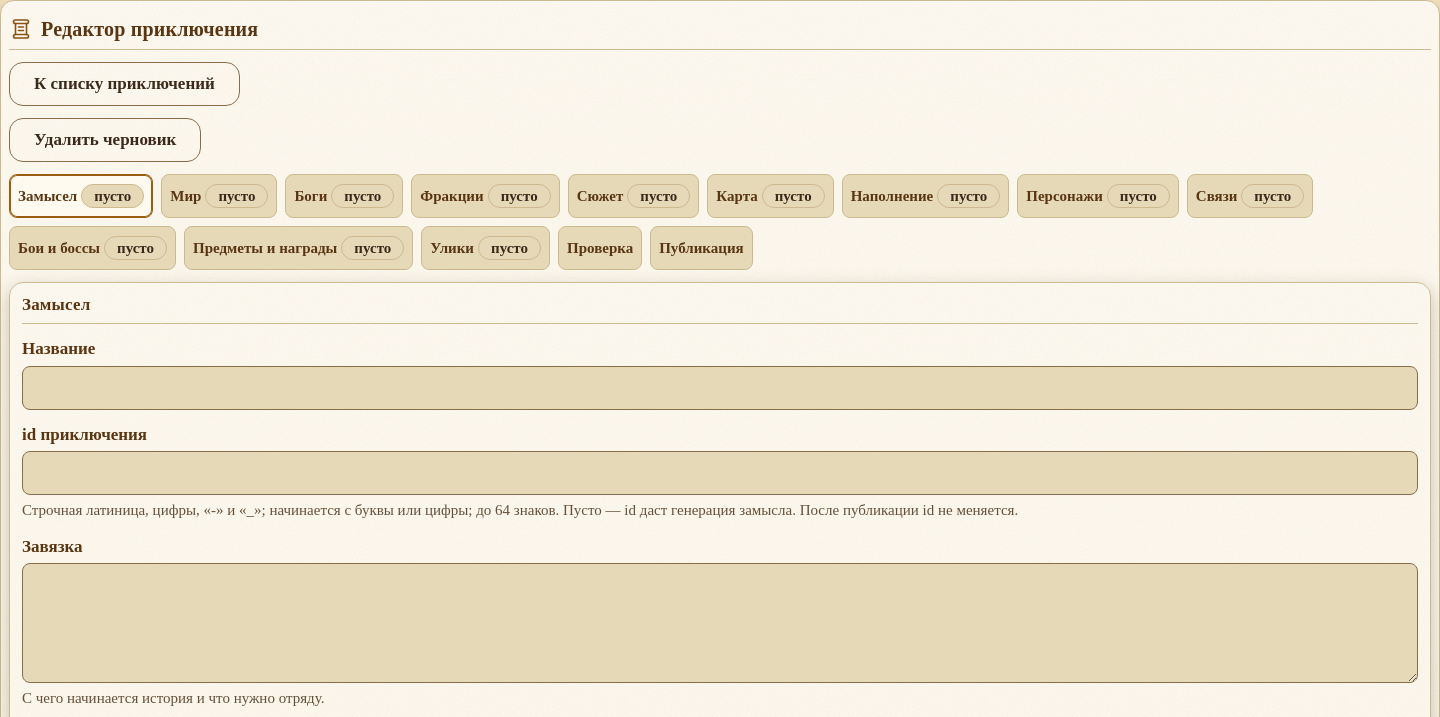
удаление черновика › «Удалить черновик» сначала спрашивает: опубликованное приключение останется; «Отмена» ничего не удаляет
Step 1. Click the button "Удалить черновик" → [105, 140], box [9,118,201,162]
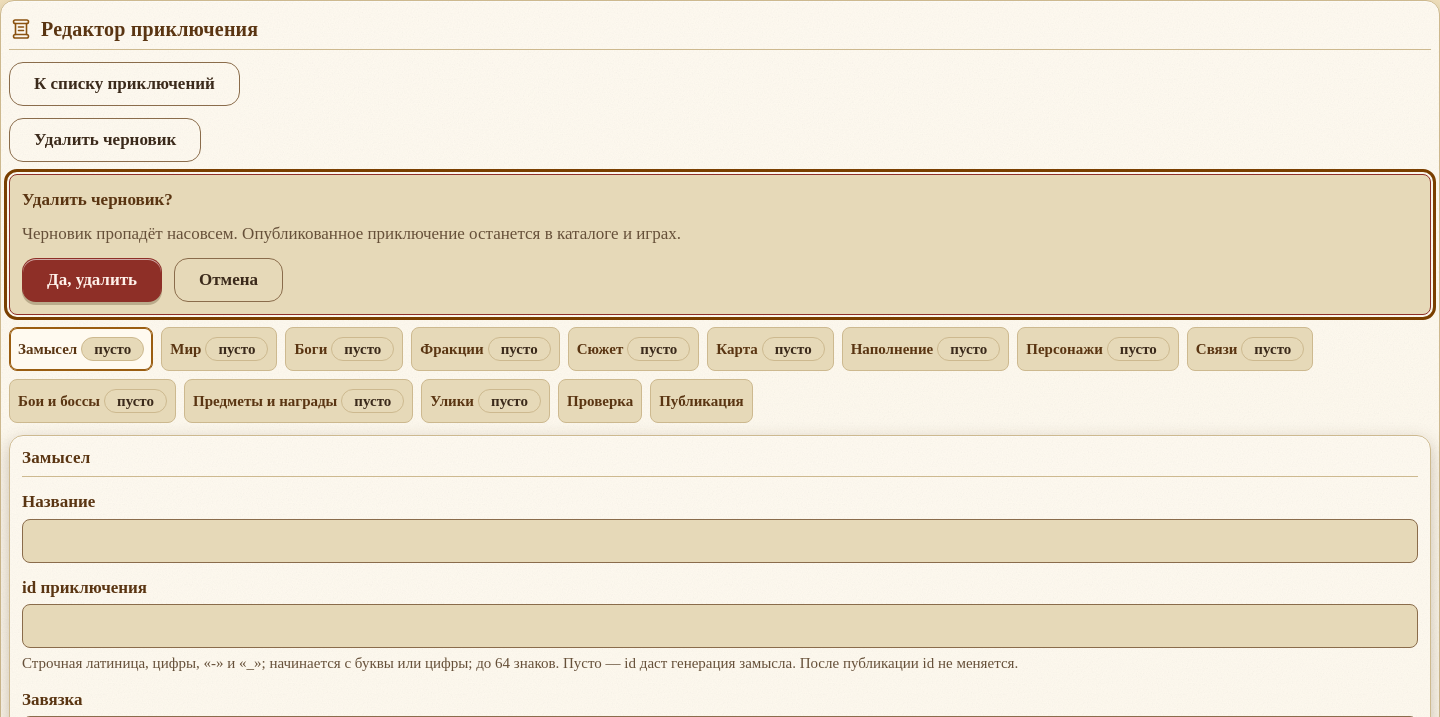
Expected: the dialog "Удалить черновик?" shows "Опубликованное приключение останется в каталоге и играх.", [22,224,681,242]
Step 2. Click the button "Отмена" → [228, 280], box [174,258,283,302]
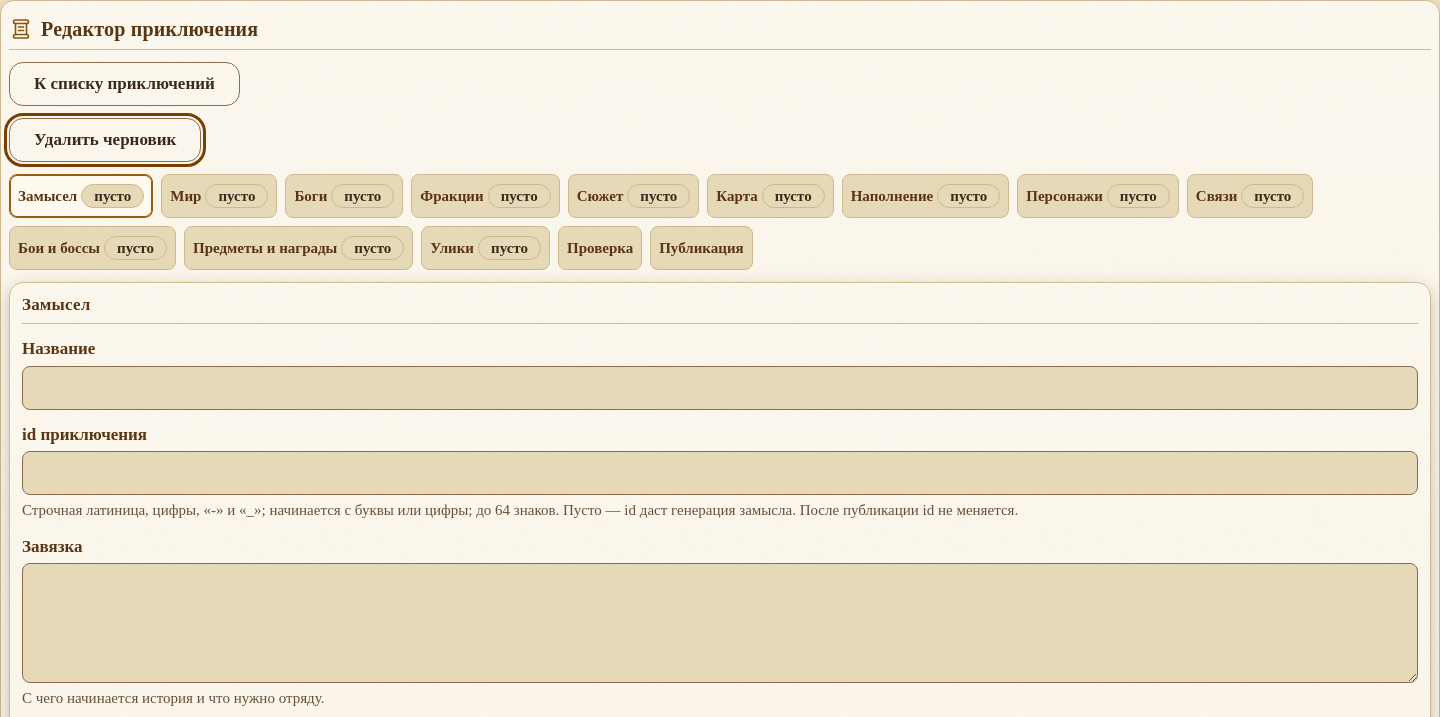
Expected: the dialog is gone
